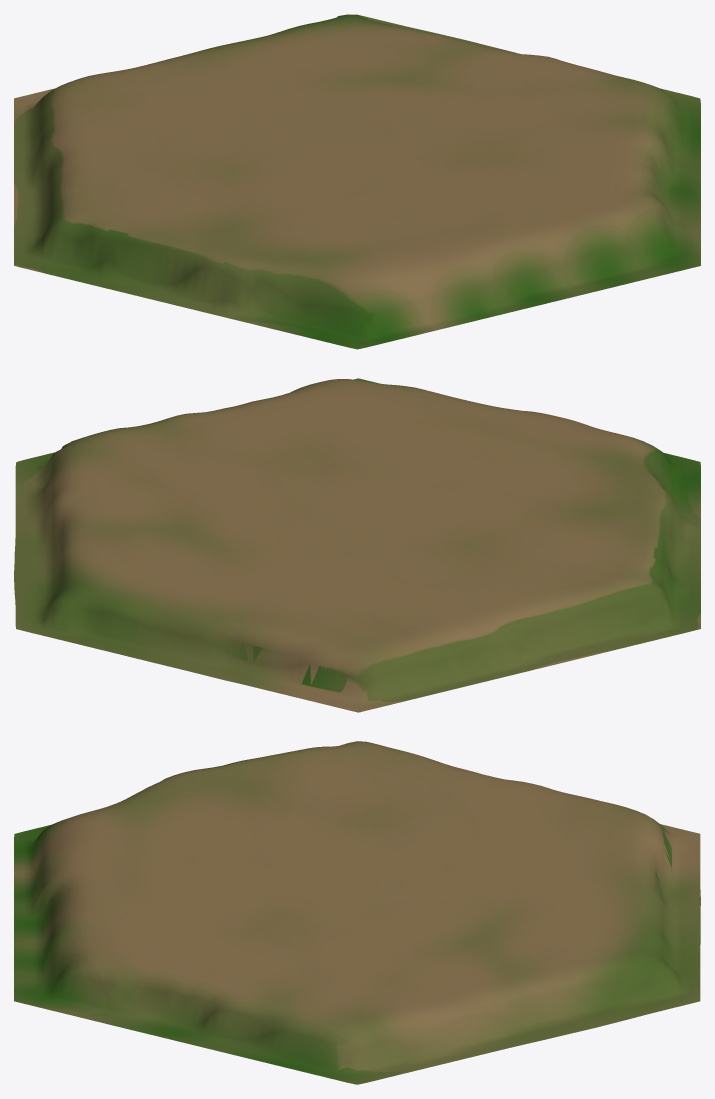
The model's file is Plateau1A.glb.
The picture shows the model from 3 angles, top to bottom: view 1: azimuth 30°, elevation 25°; view 2: azimuth 150°, elevation 25°; view 3: azimuth 270°, elevation 25°; orthographic projection.
Parts seen in each view (by area): view 1: Circle; view 2: Circle; view 3: Circle.
Part boxes in pixels (box(x1,y1,x2,y2)): Circle: box(14, 14, 700, 349); Circle: box(14, 378, 700, 712); Circle: box(14, 741, 700, 1084).
Size of the model in its own units: 400 by 21.81 by 347.
Materials: 1 (1 with a texture image).
